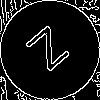Z: (25, 25, 78, 80)
